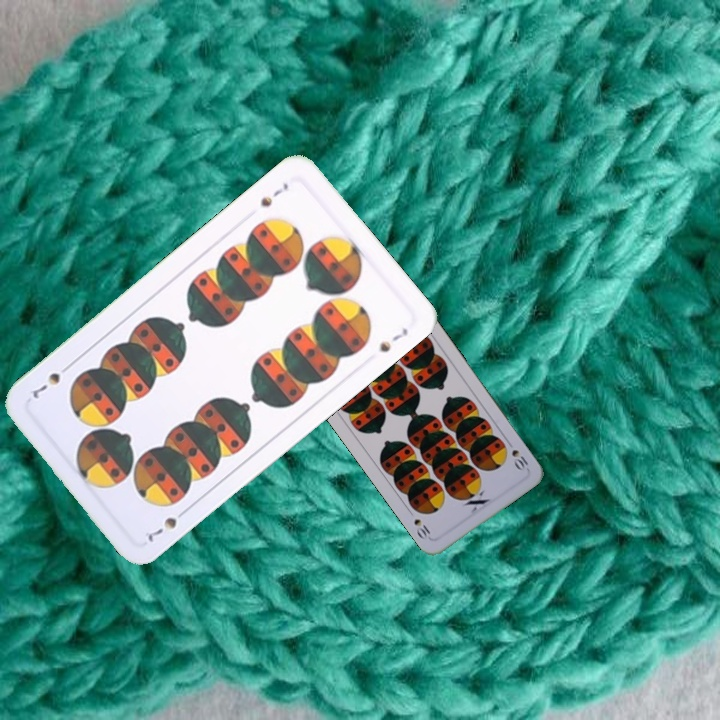S10: (507, 445, 531, 474)
S7: (143, 504, 191, 546), (256, 179, 291, 210)
